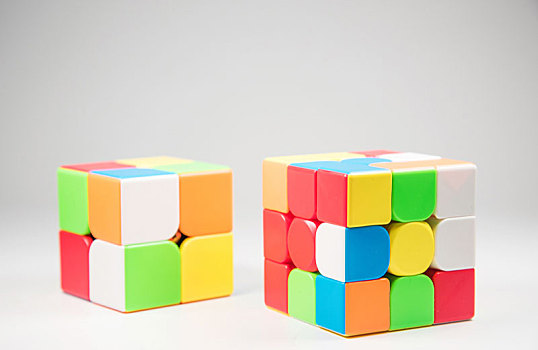cube: (259, 146, 481, 341)
